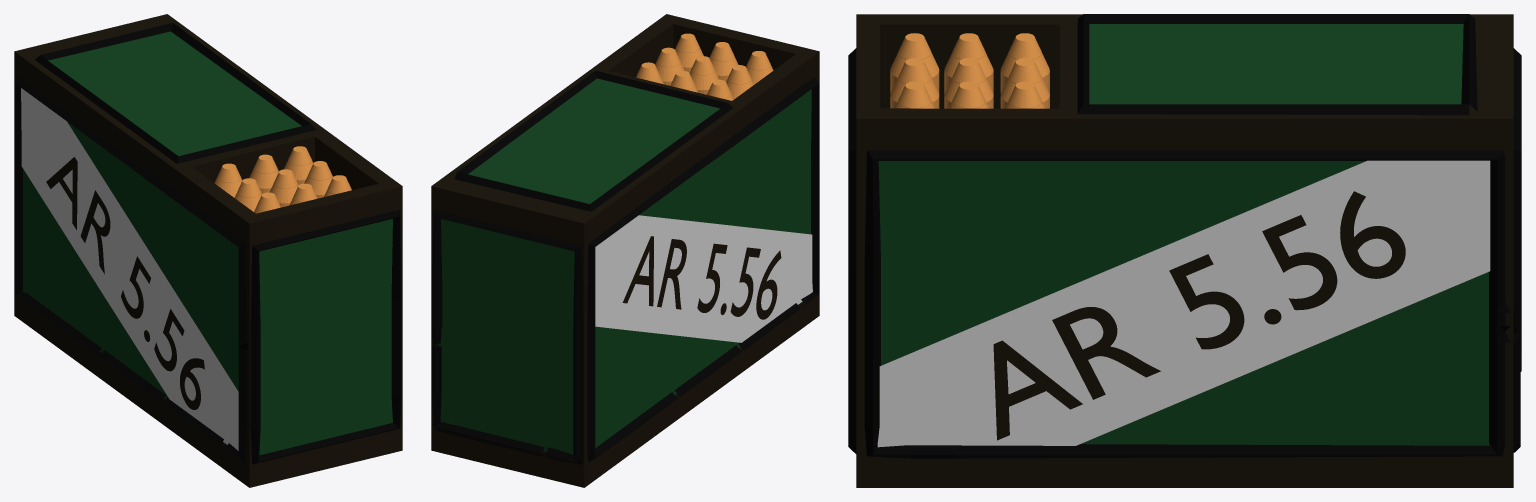
File: 556Ammo.fbx
3 renders of one model, left to right at view 1: azimuth 30°, elevation 25°; view 2: azimuth 150°, elevation 25°; view 3: azimuth 270°, elevation 25°, orthographic. The views are drawn at different scales.
Visible parts, largest first — view 1: AR; view 2: AR; view 3: AR.
Boxes of the visible parts, x1,y1,x2,y2 form: AR: (14,14,402,487); AR: (431,14,819,487); AR: (848,14,1521,487).
Bounding box in the file's own units: 16.04 × 25.3 × 41.
